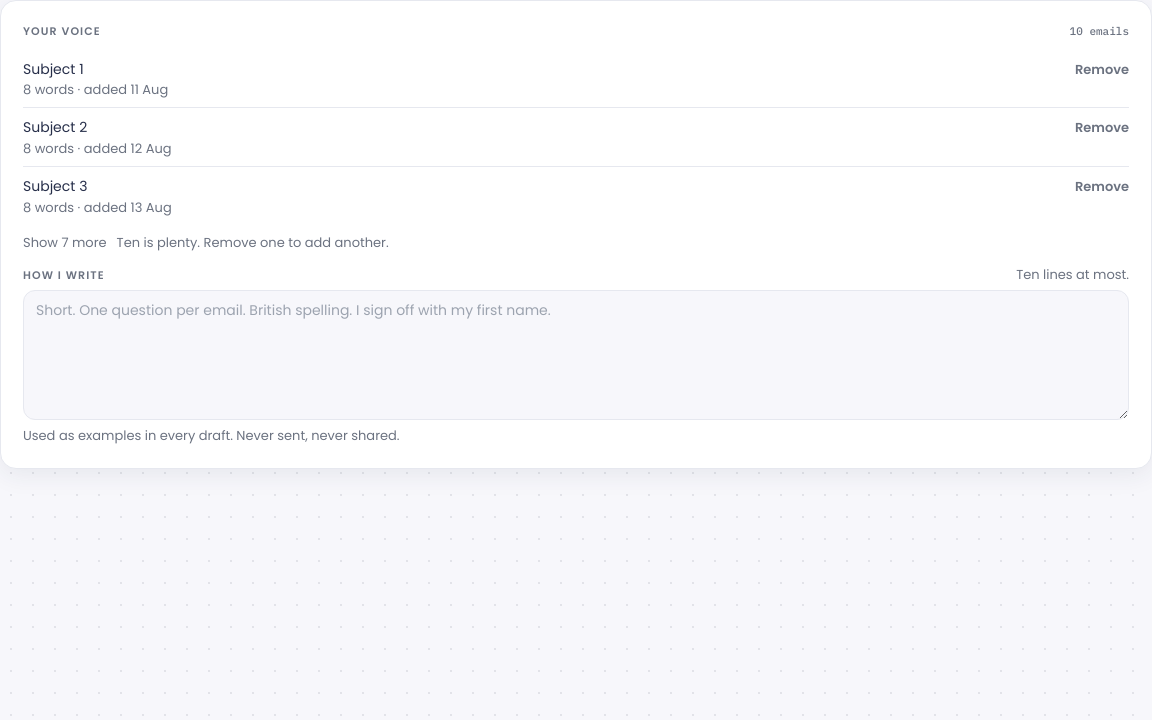
the Your voice card › says why at ten, and Remove brings the Add control back
The image size is (1152, 720).
Check: the text "10 emails" is shown, box [1070, 24, 1129, 38]
Check: the button "Add an email you are proud of" is not shown
Click the button "Remove" in the row of "Subject 1". click: (1102, 69)
box: [1075, 60, 1129, 79]
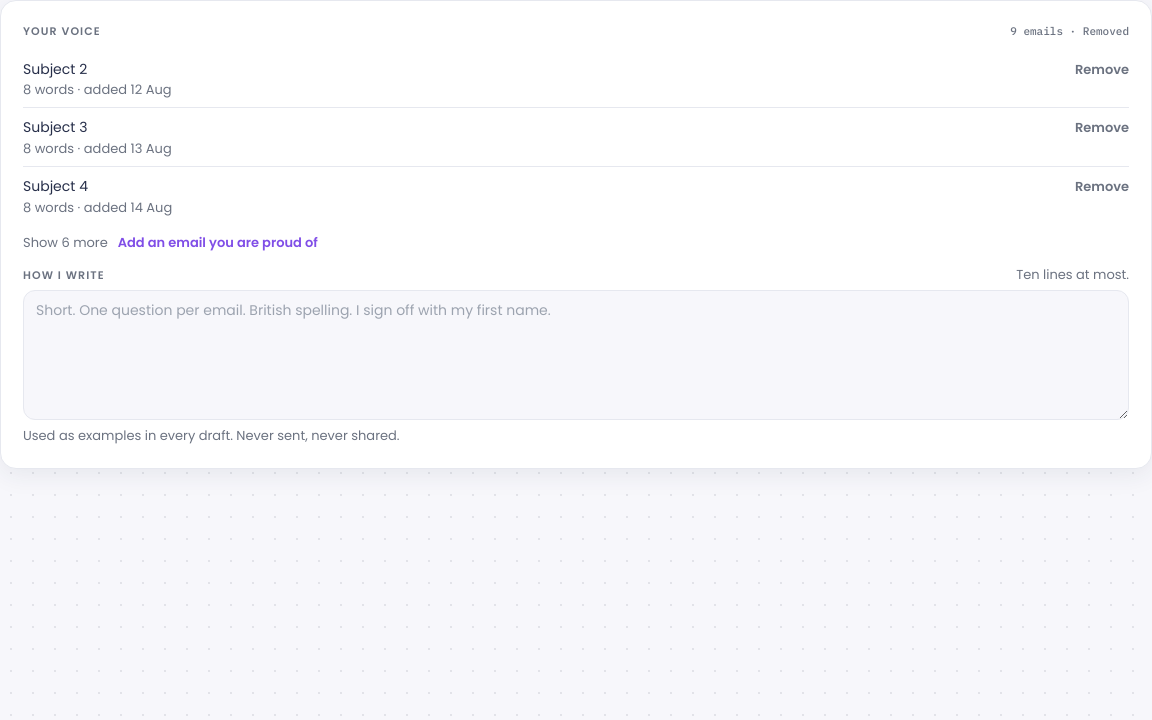
Check: the text "Ten is plenty. Remove one to add another." is gone
Check: the button "Add an email you are proud of" is shown, box [118, 233, 318, 253]
